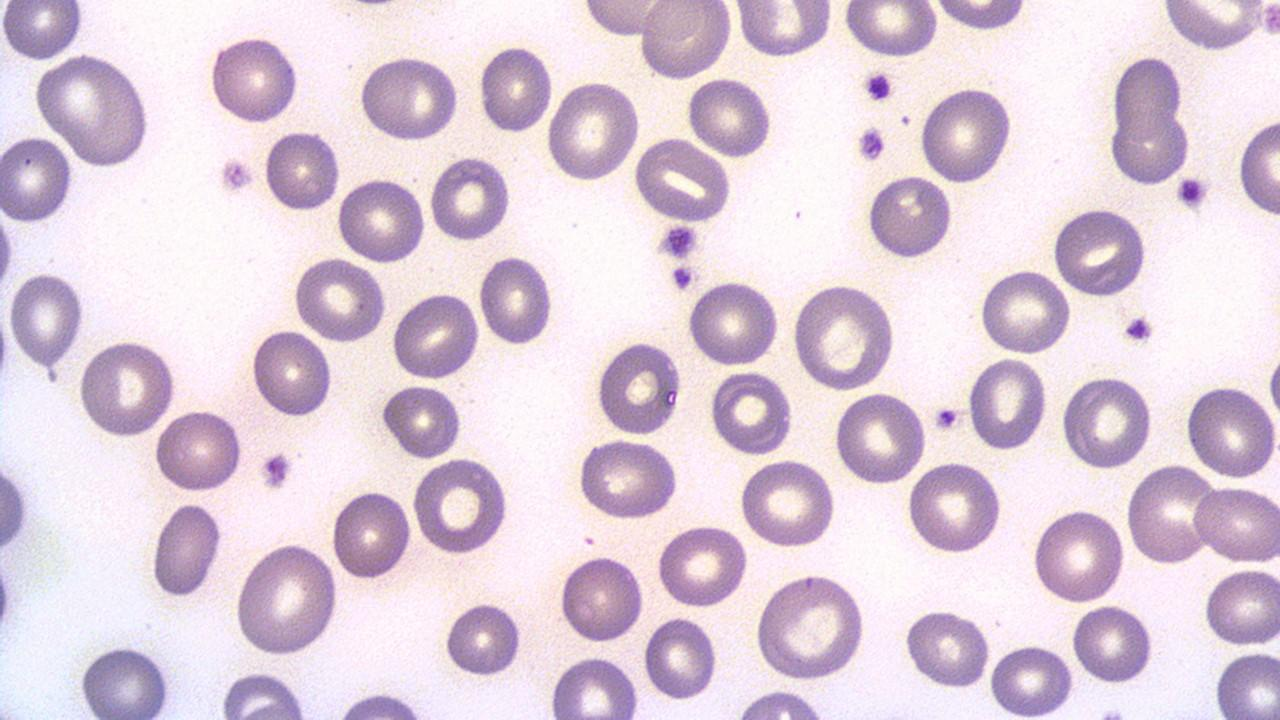Platelets: (216, 155, 258, 201), (658, 222, 700, 262), (259, 448, 294, 492), (1174, 172, 1210, 212), (854, 124, 886, 165), (862, 68, 894, 105), (1123, 314, 1157, 348), (930, 402, 962, 434), (668, 264, 698, 292)
RBC: (31, 49, 154, 167), (752, 570, 868, 682), (234, 540, 341, 658), (790, 281, 896, 393), (77, 336, 179, 438), (410, 454, 510, 557), (544, 78, 640, 185), (917, 82, 1015, 186), (904, 459, 1008, 556), (356, 51, 464, 142), (1029, 506, 1127, 606), (831, 389, 929, 486), (1125, 462, 1217, 565), (1183, 382, 1279, 480), (1050, 205, 1150, 299), (736, 458, 839, 548), (1059, 373, 1153, 471), (574, 435, 682, 520), (594, 336, 683, 438), (207, 32, 302, 127), (630, 136, 733, 223), (686, 276, 782, 368), (290, 256, 388, 345), (334, 174, 428, 266), (976, 267, 1073, 356), (389, 288, 481, 381), (654, 522, 750, 610), (556, 553, 647, 645), (964, 354, 1048, 452), (153, 405, 244, 495), (328, 487, 413, 583), (637, 0, 736, 82), (864, 172, 954, 262), (75, 638, 176, 718), (250, 326, 334, 421), (7, 268, 85, 370), (148, 499, 224, 602), (900, 606, 992, 691), (708, 367, 794, 457), (428, 152, 512, 244), (686, 73, 774, 160), (477, 41, 555, 138), (478, 251, 556, 348), (1071, 600, 1155, 686), (0, 131, 75, 226), (642, 612, 720, 702), (442, 596, 524, 681), (261, 128, 341, 215), (1191, 484, 1277, 564), (1200, 564, 1280, 650), (1104, 108, 1192, 186), (987, 640, 1075, 717), (380, 380, 464, 460), (1110, 51, 1184, 141), (734, 0, 834, 61), (1157, 2, 1273, 54), (546, 654, 642, 716), (840, 2, 941, 60), (1, 1, 84, 63), (1234, 112, 1280, 221), (1213, 646, 1279, 720), (216, 668, 310, 718), (1, 450, 30, 568), (734, 686, 830, 720), (930, 0, 1029, 32), (0, 195, 17, 310)
